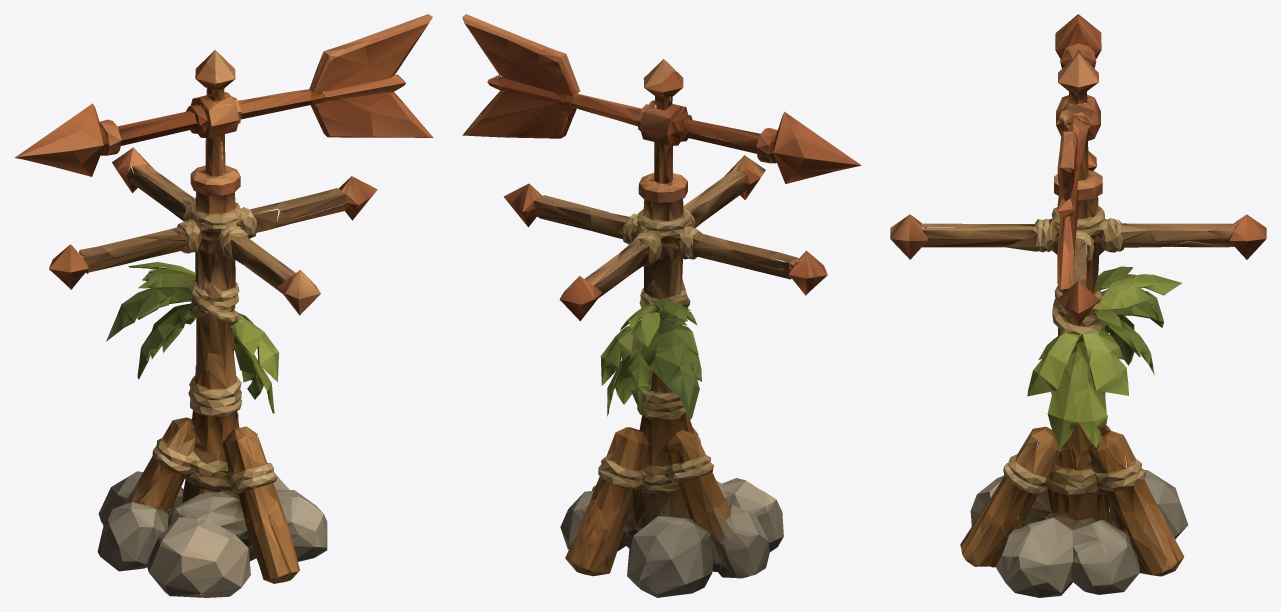
File: building-windVane.glb
3 views of the same model, side by side, from view 1: azimuth 30°, elevation 25°; view 2: azimuth 150°, elevation 25°; view 3: azimuth 270°, elevation 25° (orthographic). The views are drawn at different scales.
Parts seen in each view (by area): view 1: 0_windVane; view 2: 0_windVane; view 3: 0_windVane.
Boxes of the visible parts, left/top/right/bottom form: 0_windVane: left=14, top=14, right=433, bottom=597; 0_windVane: left=462, top=14, right=861, bottom=597; 0_windVane: left=890, top=14, right=1266, bottom=597.
Size of the model in its own units: 1.92 by 2.28 by 1.51.
